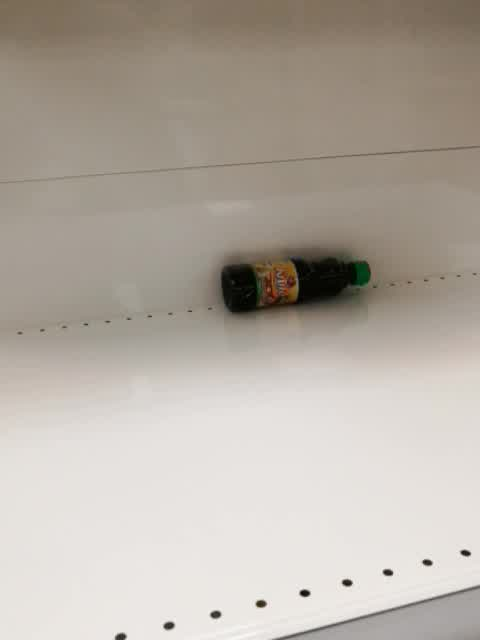cookingoil: (219, 253, 380, 315)
